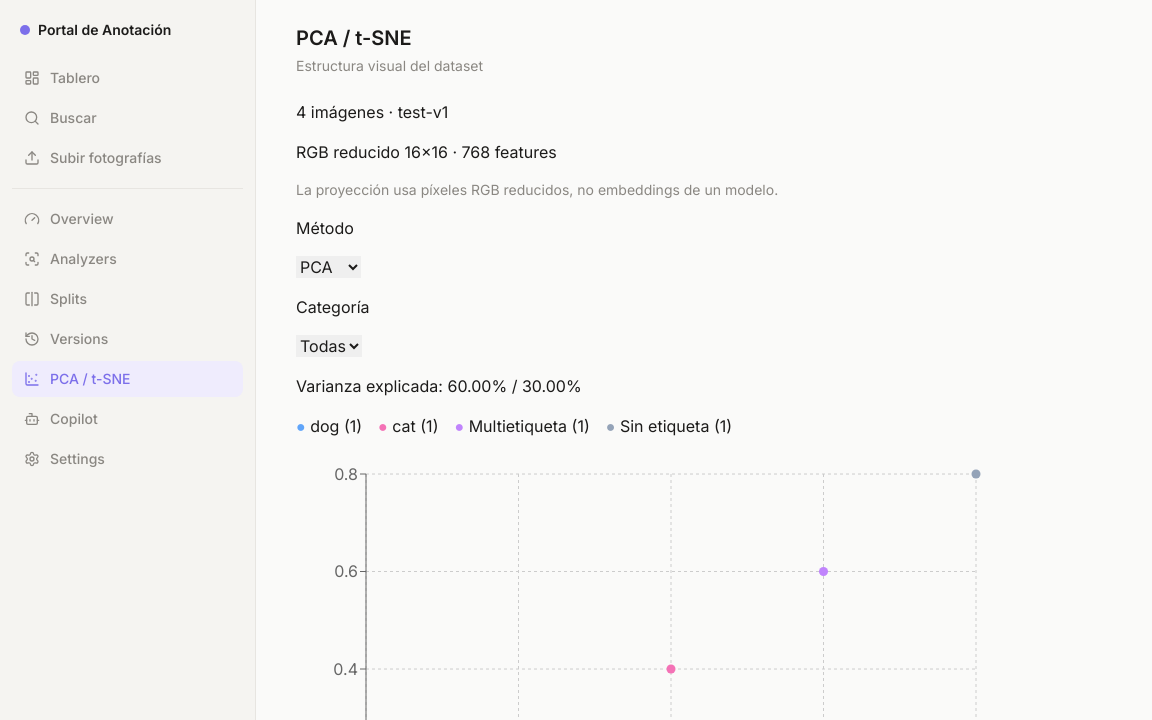
Test: loads PCA metadata and real scatter points, switches to t-SNE without a second request
Expected: the text "4 imágenes · test-v1" is shown, top-left (296, 102), bottom-right (448, 122)
Expected: the text "RGB reducido 16×16 · 768 features" is shown, top-left (296, 142), bottom-right (557, 162)
Select "t-SNE" in the dropdown labelled "Método" at (328, 267), box top-left (296, 256), bottom-right (361, 278)
(page scrolled)
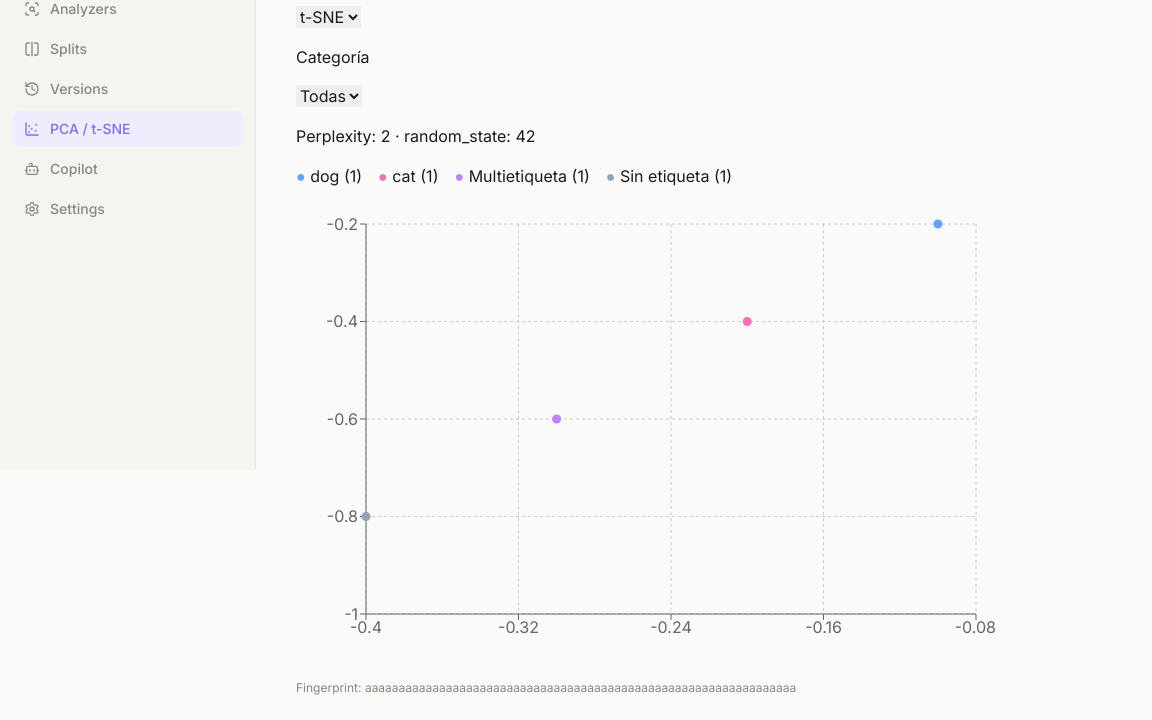
Now the text "Perplexity: 2 · random_state: 42" is shown, box top-left (296, 126), bottom-right (536, 146)
Now the element named "Proyección t-SNE" is shown, box top-left (296, 204), bottom-right (1112, 664)
